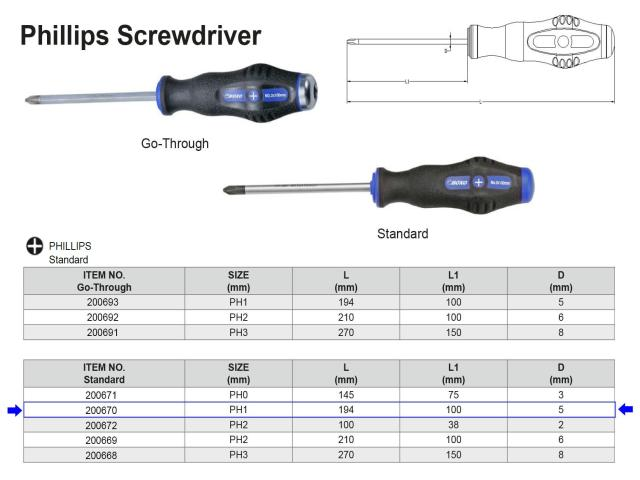Screwdriver: (224, 157, 534, 214), (26, 64, 318, 123), (345, 15, 617, 69)
